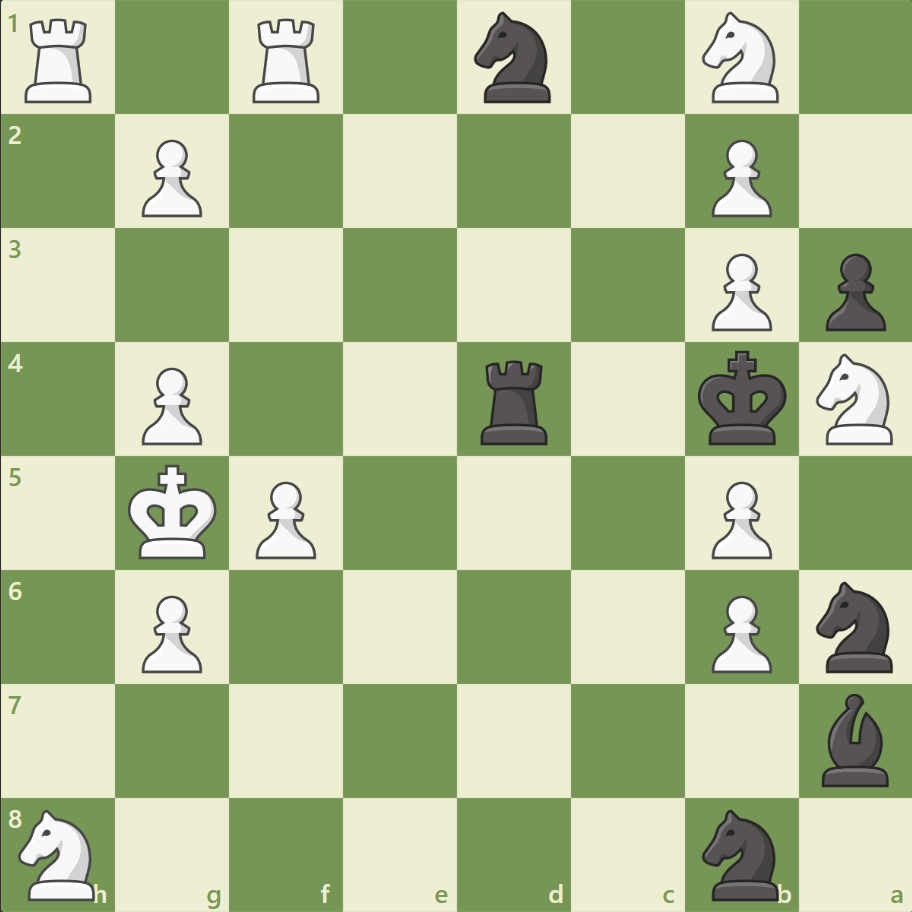K: (124, 458, 224, 566)
N: (692, 7, 789, 110), (11, 802, 108, 904), (806, 348, 903, 450)
P: (701, 586, 776, 677), (133, 586, 208, 677), (701, 473, 776, 564), (247, 473, 322, 564), (133, 359, 208, 450), (701, 246, 776, 337), (701, 132, 776, 223), (133, 132, 208, 223)
R: (246, 12, 329, 109), (19, 12, 102, 109)
b: (812, 687, 896, 790)
k: (692, 344, 792, 452)
n: (465, 7, 562, 110), (692, 802, 789, 904), (806, 575, 903, 677)
p: (815, 246, 889, 337)
r: (473, 352, 556, 449)
